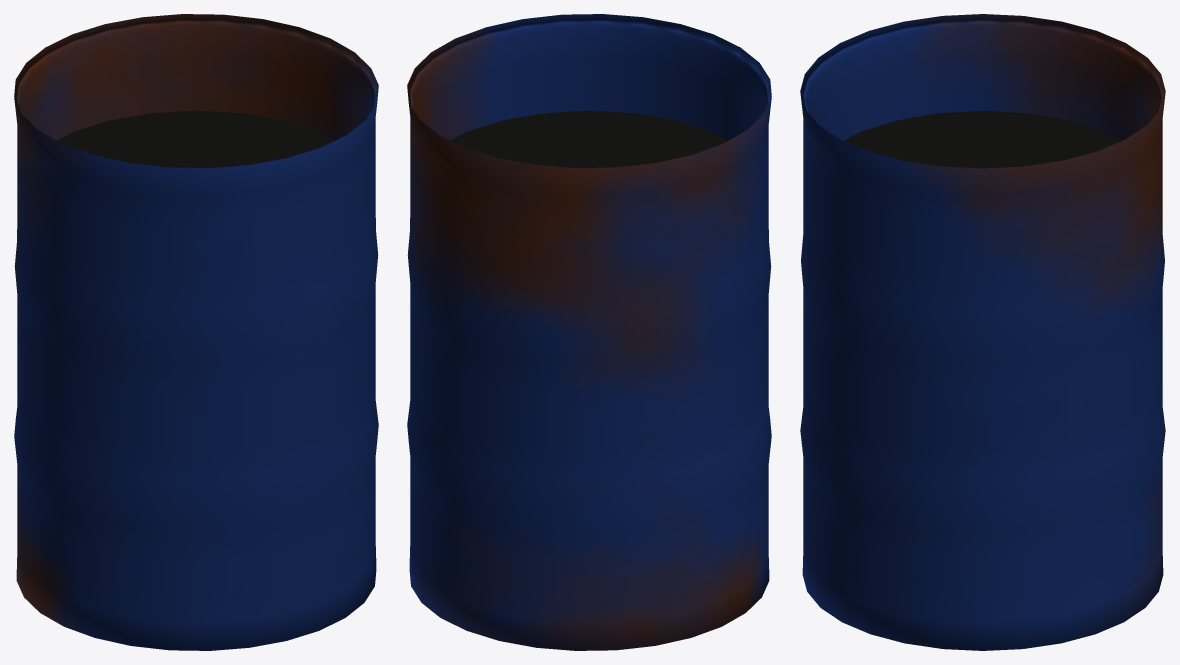
The model's file is barrelOpen_L1.glb.
3 views of the same model, side by side, from view 1: azimuth 30°, elevation 25°; view 2: azimuth 150°, elevation 25°; view 3: azimuth 270°, elevation 25° (orthographic).
Visible parts, largest first — view 1: drum, liquid; view 2: drum, liquid; view 3: drum, liquid.
Part boxes in pixels (left/top/right/bottom): drum: left=14, top=14, right=378, bottom=650; liquid: left=57, top=110, right=334, bottom=167; drum: left=407, top=14, right=771, bottom=650; liquid: left=451, top=110, right=728, bottom=167; drum: left=800, top=14, right=1165, bottom=650; liquid: left=844, top=110, right=1121, bottom=168.
Size of the model in its own units: 0.5832 by 0.8647 by 0.5832.
2 materials, 1 textured.
